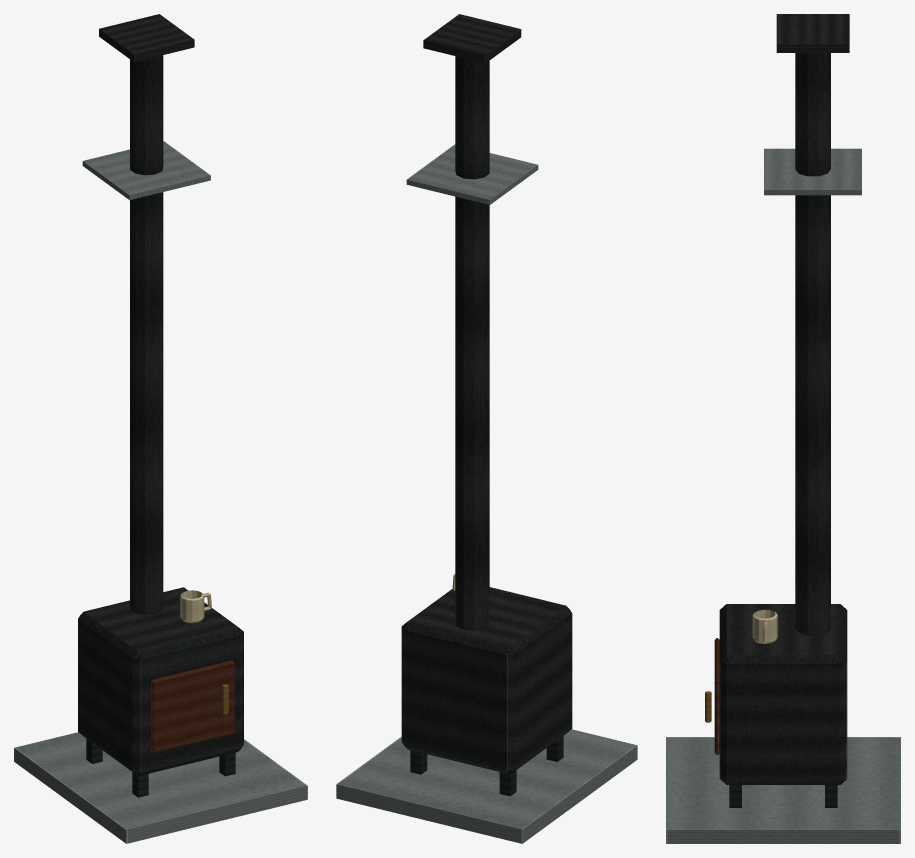
File: level_trace_woodstove.glb
3 renders of one model, left to right at view 1: azimuth 30°, elevation 25°; view 2: azimuth 150°, elevation 25°; view 3: azimuth 270°, elevation 25°, orthographic. The views are drawn at different scales.
Parts seen in each view (by area): view 1: level_trace_woodstove; view 2: level_trace_woodstove; view 3: level_trace_woodstove.
Boxes of the visible parts, x1=… form: level_trace_woodstove: x1=14, y1=14, x2=307, y2=843; level_trace_woodstove: x1=336, y1=14, x2=637, y2=843; level_trace_woodstove: x1=666, y1=14, x2=900, y2=843.
Size of the model in its own units: 0.96 by 3.72 by 1.03.
5 materials, 5 textured.
